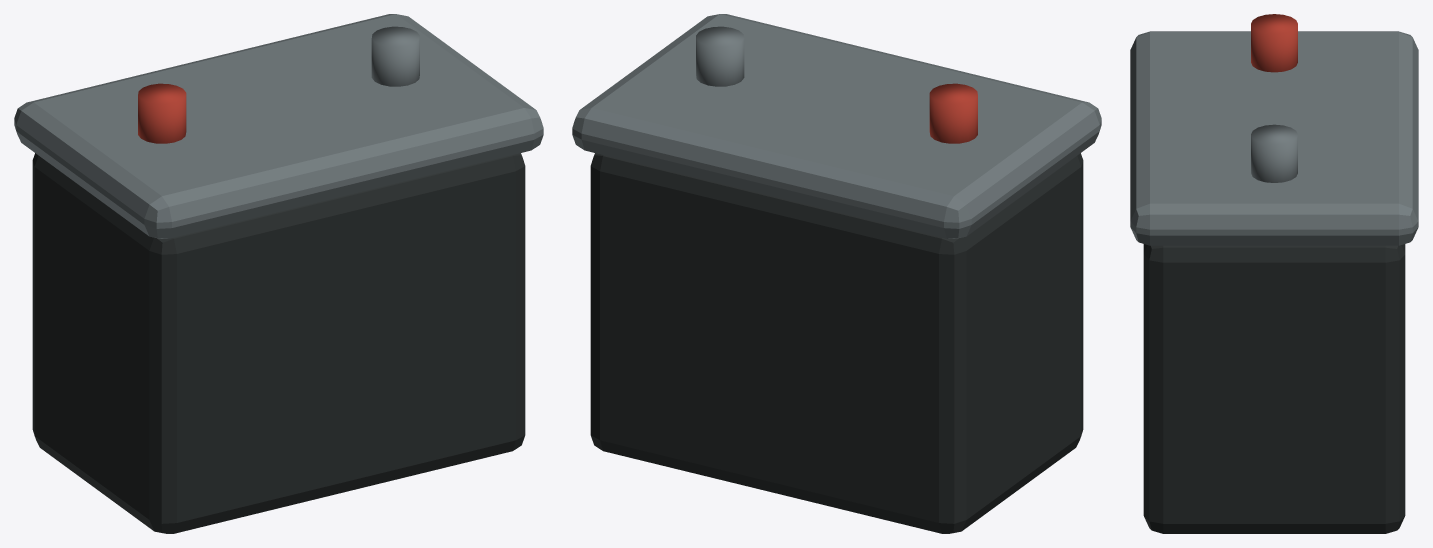
File: car_battery.glb
3 renders of one model, left to right at view 1: azimuth 30°, elevation 25°; view 2: azimuth 150°, elevation 25°; view 3: azimuth 270°, elevation 25°, orthographic. The views are drawn at different scales.
Parts seen in each view (by area): view 1: Car battery, Battery lid, Terminal, Terminal.001; view 2: Car battery, Battery lid, Terminal, Terminal.001; view 3: Car battery, Battery lid, Terminal, Terminal.001.
Boxes of the visible parts, x1=… form: Car battery: x1=32, y1=153, x2=525, y2=533; Battery lid: x1=14, y1=14, x2=543, y2=238; Terminal: x1=138, y1=83, x2=186, y2=143; Terminal.001: x1=371, y1=26, x2=419, y2=86; Car battery: x1=590, y1=153, x2=1083, y2=533; Battery lid: x1=572, y1=14, x2=1101, y2=238; Terminal: x1=929, y1=83, x2=977, y2=143; Terminal.001: x1=696, y1=26, x2=744, y2=86; Car battery: x1=1143, y1=244, x2=1405, y2=533; Battery lid: x1=1130, y1=31, x2=1418, y2=245; Terminal: x1=1251, y1=14, x2=1297, y2=72; Terminal.001: x1=1251, y1=124, x2=1297, y2=182.
Size of the model in its own units: 0.34 by 0.315 by 0.22.
